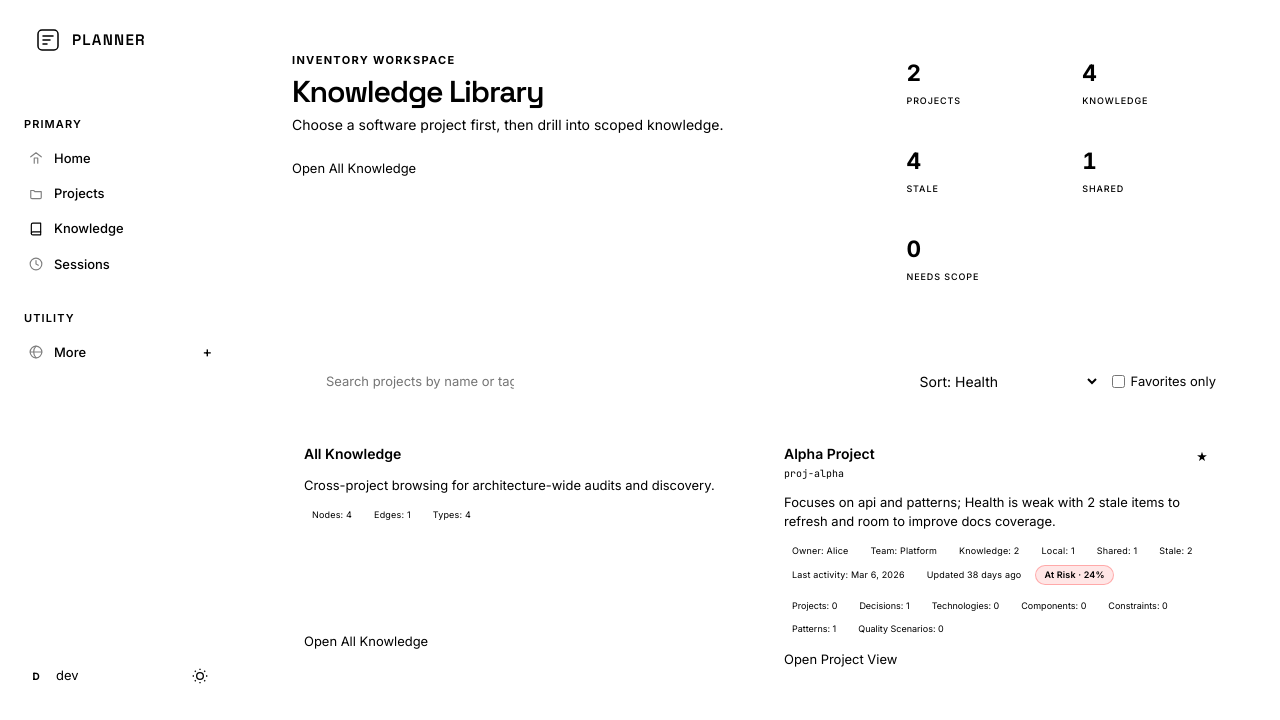
Test case: KnowledgeLibraryPage phase 2 routing › filters projects by search text
This screenshot has width=1280, height=720.
Expected: the heading "Alpha Project" is shown, [784, 443, 875, 464]
Type "beta suite" into the field with placeholder "Search projects by name or tag…". click: (420, 382)
box: [326, 368, 514, 395]
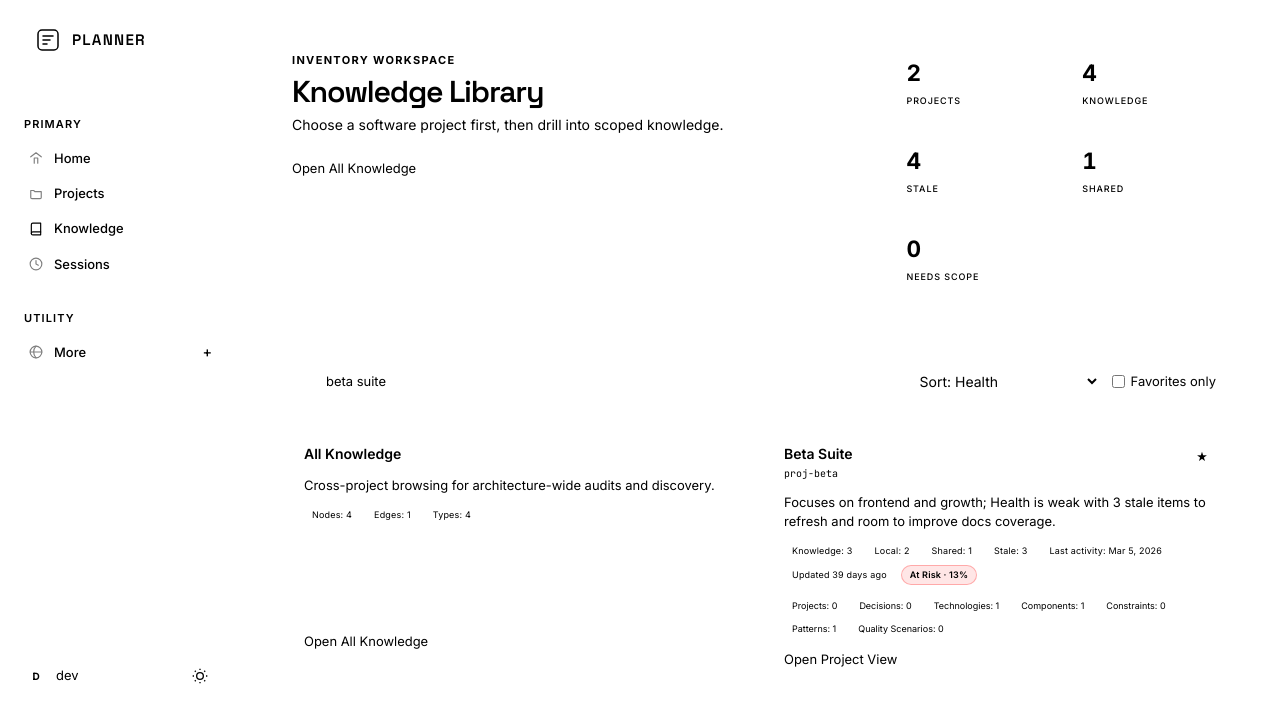
Expected: the heading "Alpha Project" is gone
Expected: the heading "Beta Suite" is shown, [784, 443, 852, 464]
